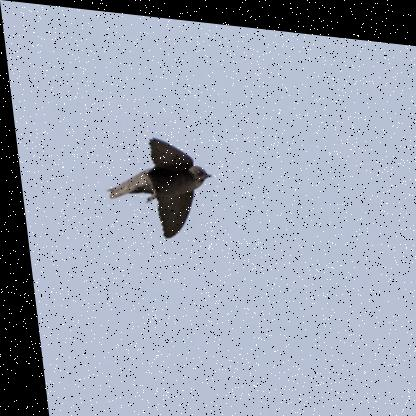Burung: (95, 130, 213, 239)
